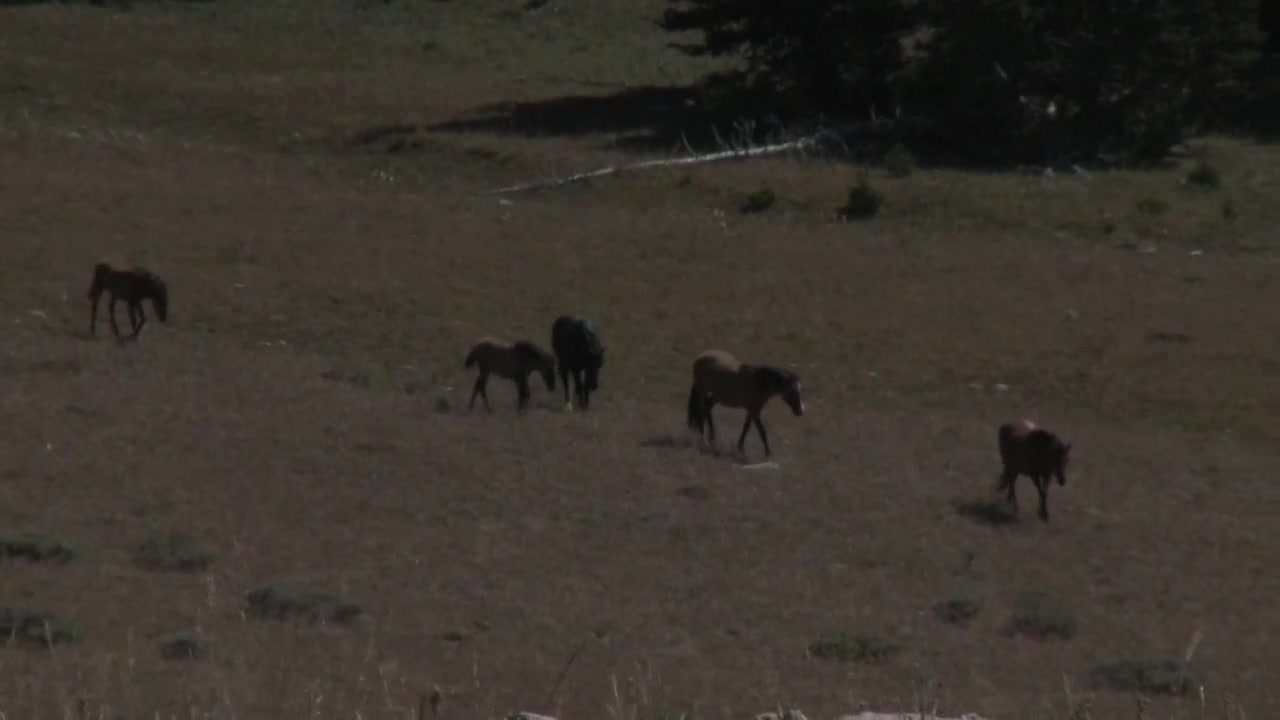horse: (686, 349, 809, 463), (992, 422, 1079, 524), (85, 256, 173, 350), (459, 339, 560, 413), (549, 316, 608, 411)
